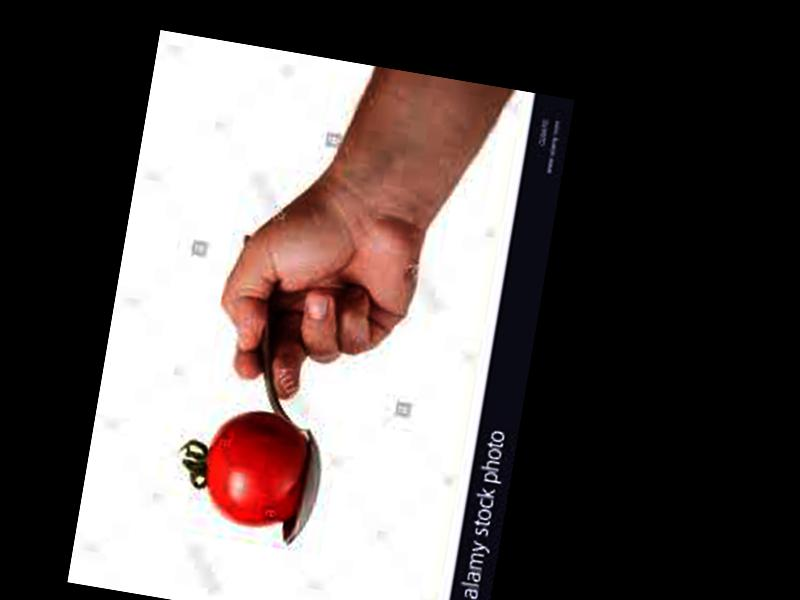Tomato: (196, 403, 312, 531)
